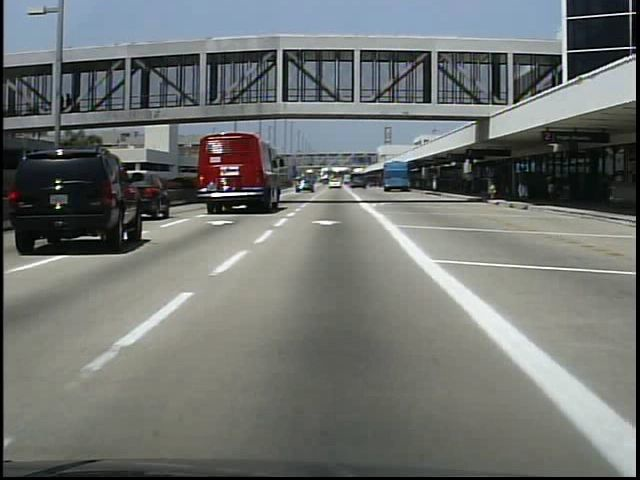person: (542, 168, 560, 203)
